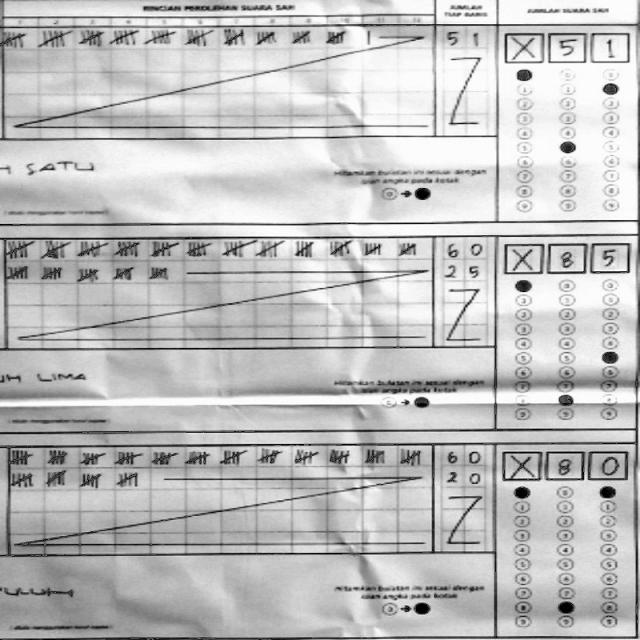Suara: (498, 26, 636, 66), (498, 445, 632, 481), (502, 243, 631, 278)
